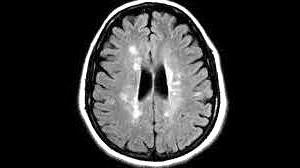Normal_Brain: (73, 1, 287, 168)
